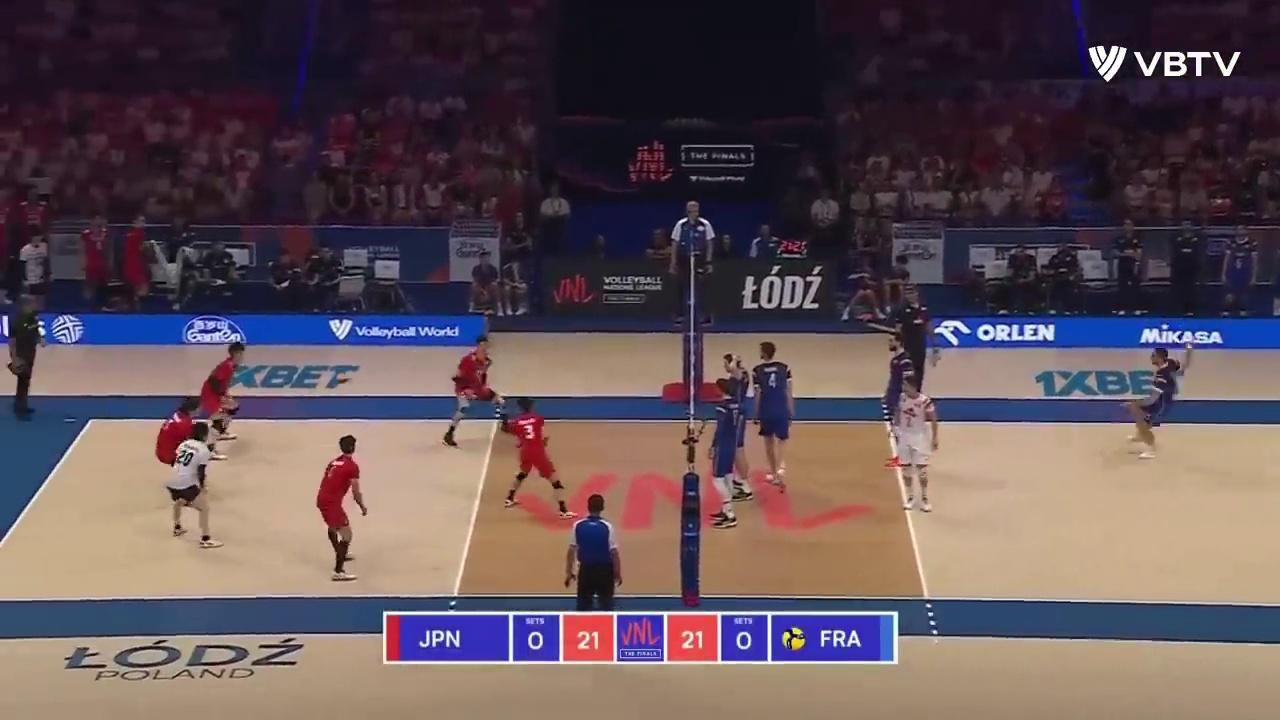ball: (336, 372, 350, 384)
